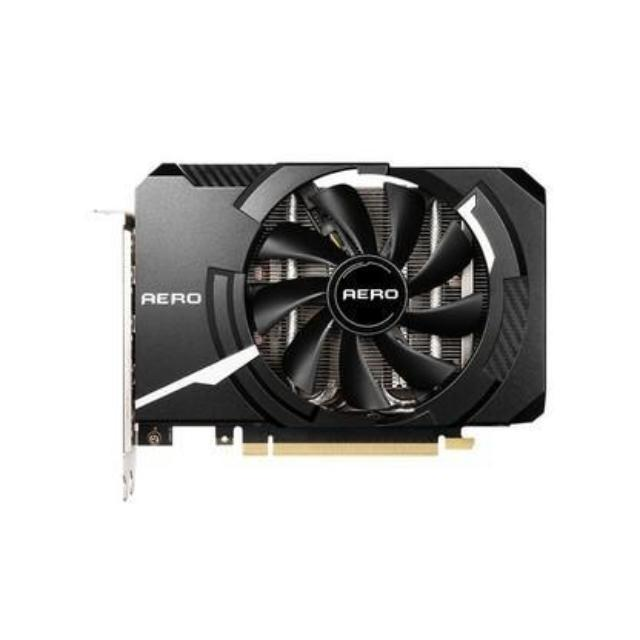GPU: (111, 154, 564, 466)
